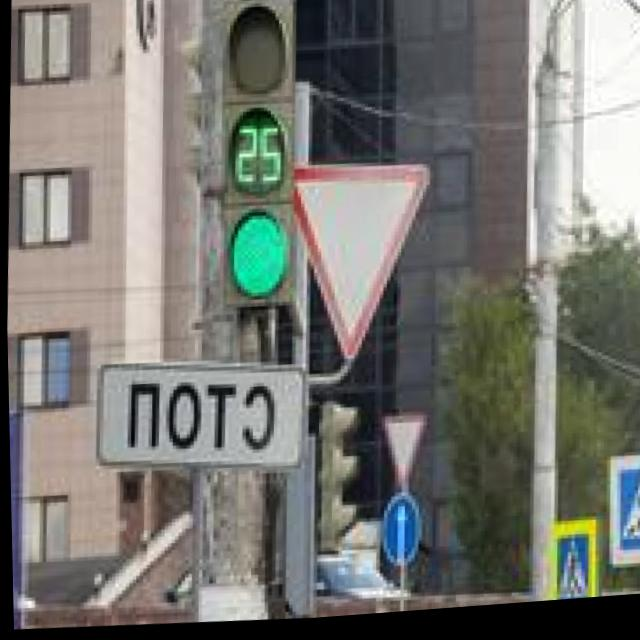green_light: (193, 186, 315, 316)
